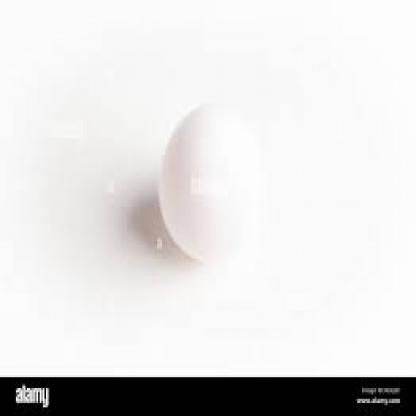egg: (158, 97, 270, 268)
